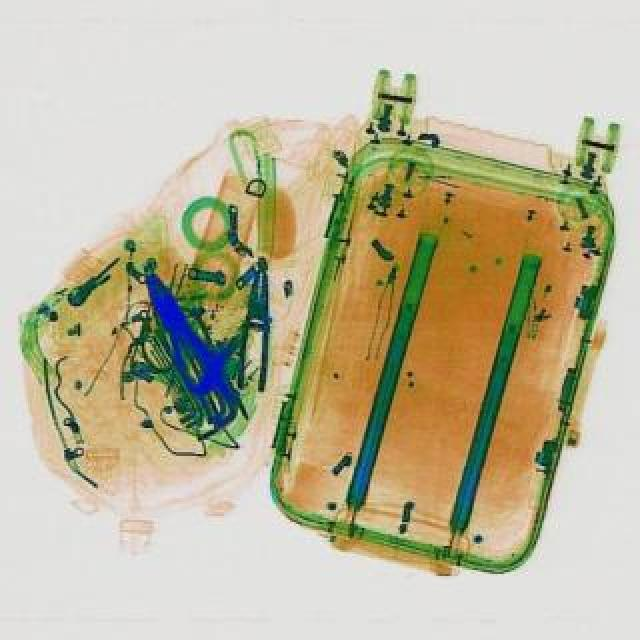wrench: (126, 258, 242, 422), (234, 270, 274, 392)
